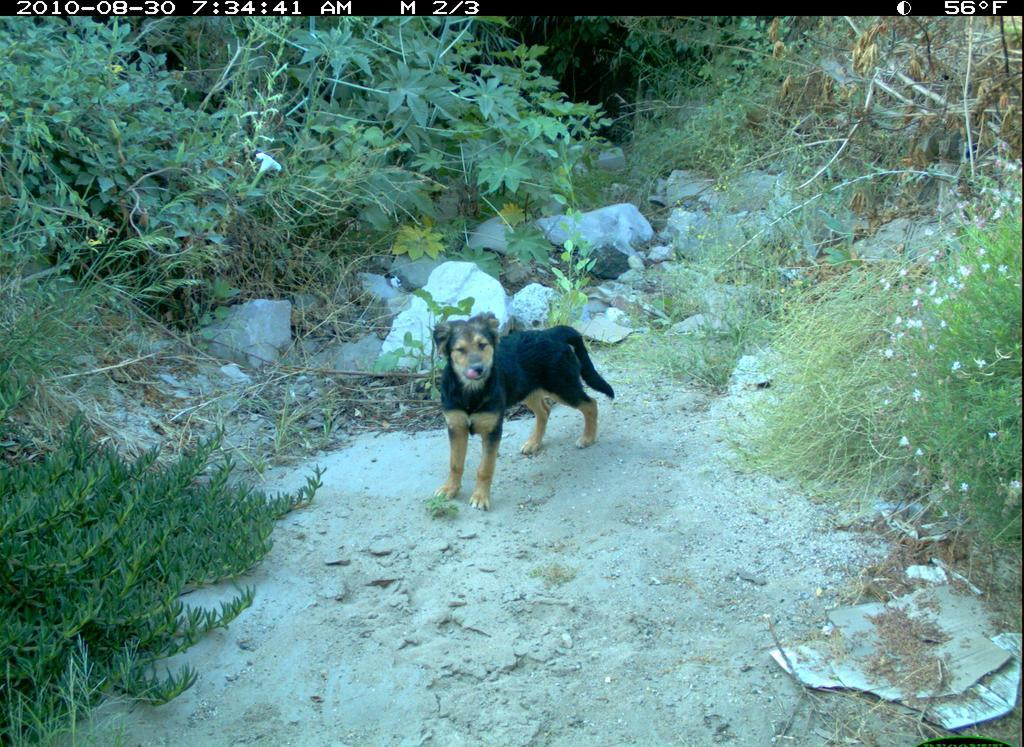dog: (426, 302, 622, 519)
